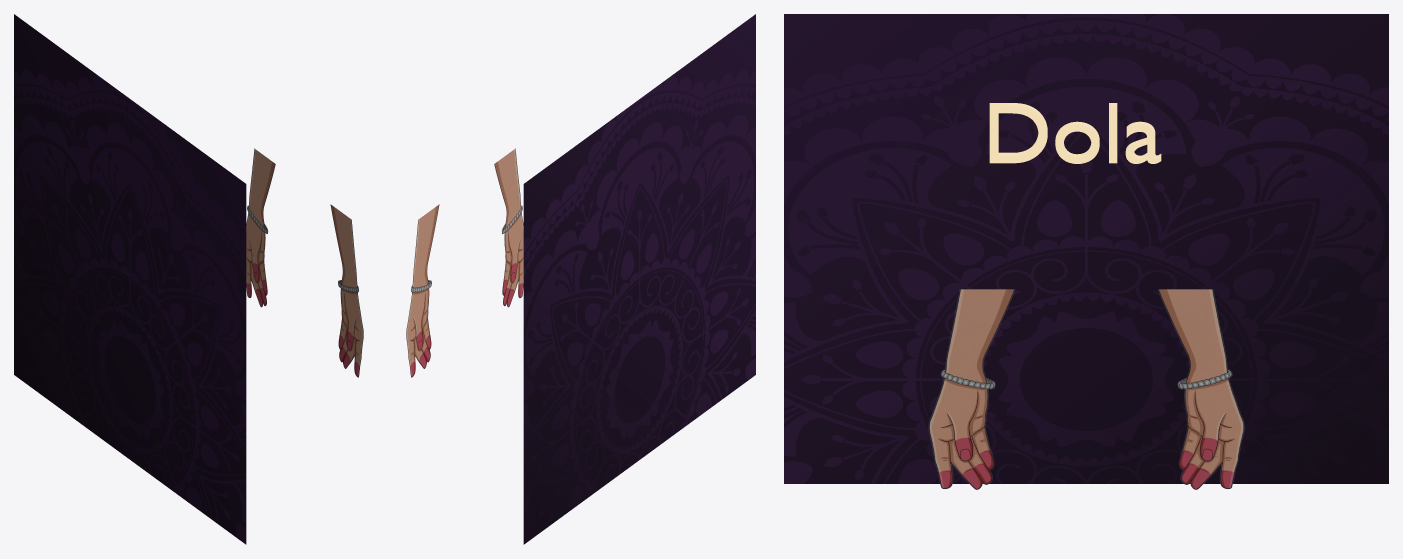
Rendered from Dola.glb.
The picture shows the model from 3 angles, left to right: view 1: azimuth 30°, elevation 25°; view 2: azimuth 150°, elevation 25°; view 3: azimuth 270°, elevation 25°; orthographic projection. The views are drawn at different scales.
Parts seen in each view (by area): view 1: Plane.004, Anjali.004; view 2: Plane.004, Anjali.004; view 3: Plane.004, Anjali.004, Text.023.
Part boxes in pixels (x1,y1,x2,y2): Plane.004: [14, 14, 246, 544]; Anjali.004: [246, 148, 363, 377]; Plane.004: [523, 14, 755, 544]; Anjali.004: [406, 148, 523, 377]; Plane.004: [784, 14, 1388, 483]; Anjali.004: [928, 289, 1244, 489]; Text.023: [989, 103, 1161, 163].
Size of the model in its own units: 1.53 by 3.05 by 3.56.
Materials: 3 (2 with a texture image).
